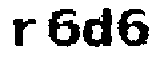6: (116, 7, 151, 50), (46, 6, 79, 50)
d: (81, 5, 114, 51)
r: (10, 14, 38, 51)
